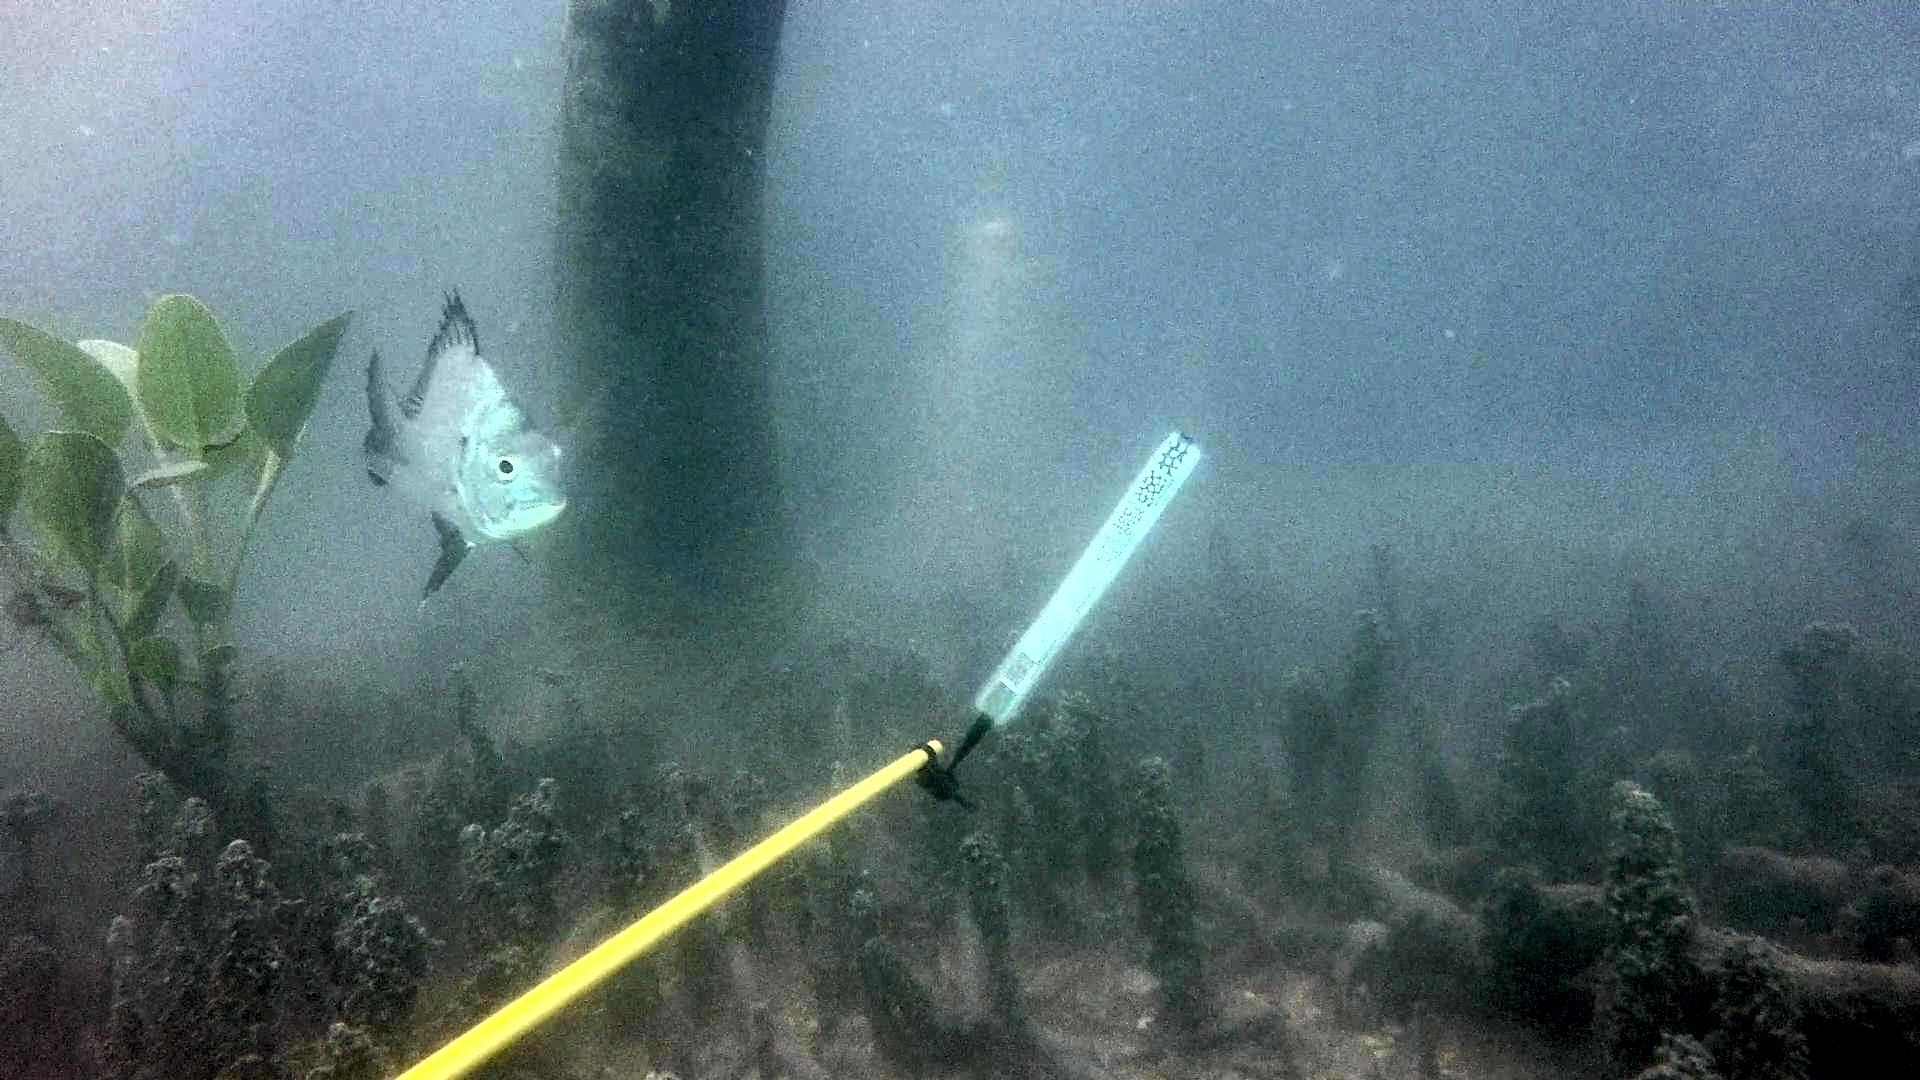acanthopagrus palmaris: (352, 278, 599, 613)
